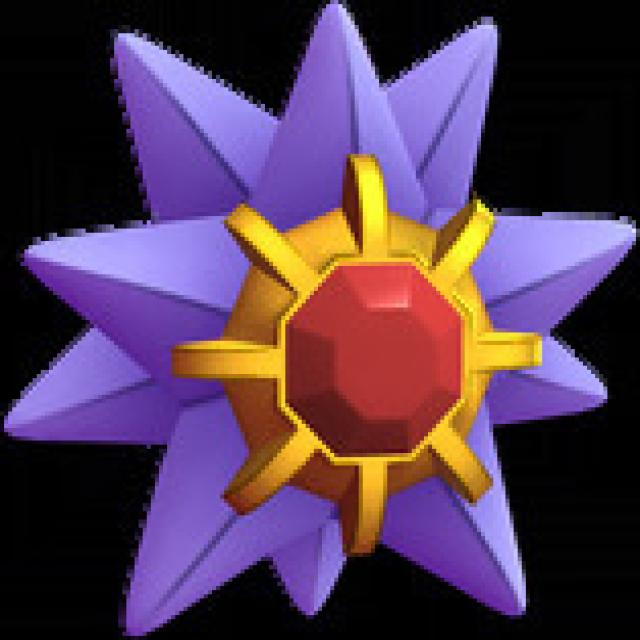Starmie: (94, 21, 555, 629)
